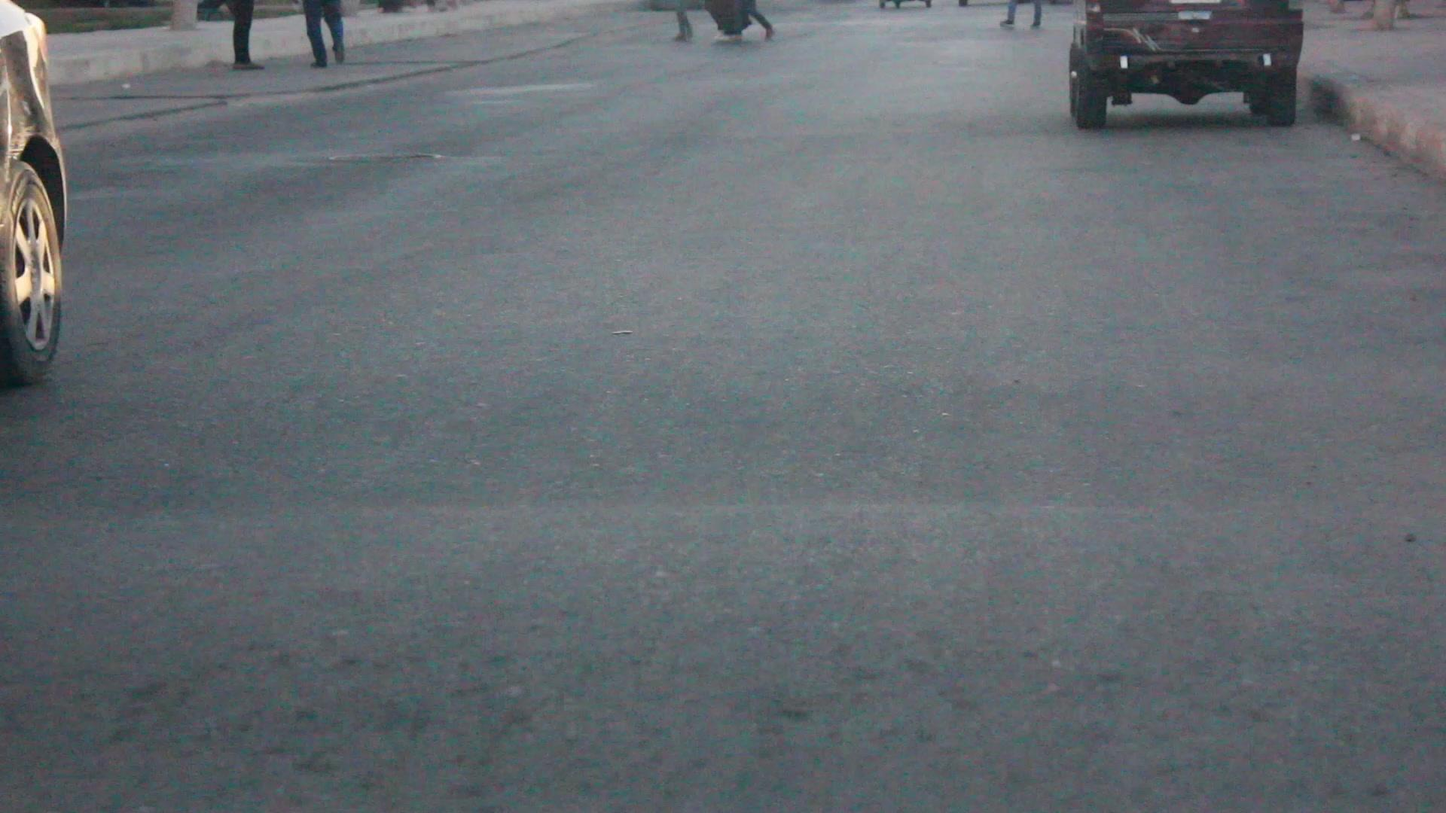Bump: (6, 521, 1446, 813)
